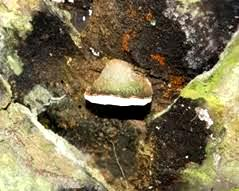Ganoderma - Fruit Body: (83, 64, 154, 109)
